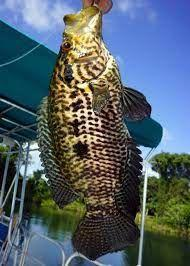Jaguar Gapote: (36, 10, 153, 260)
